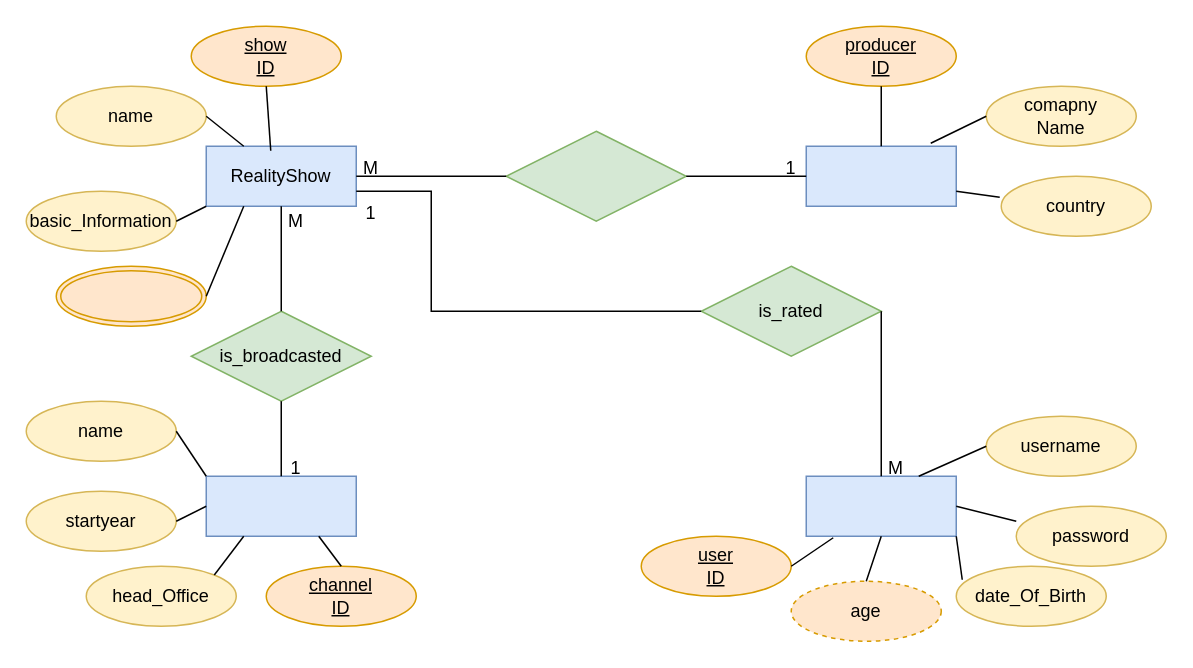
Image size: 1193x668. Some labels were removed from this diagram. Each missing label, with the centre of its shape:
is_produced: pixel 595 175
participant's name: pixel 130 295
Producer: pixel 880 175
TVChannel: pixel 280 505
User: pixel 880 505
